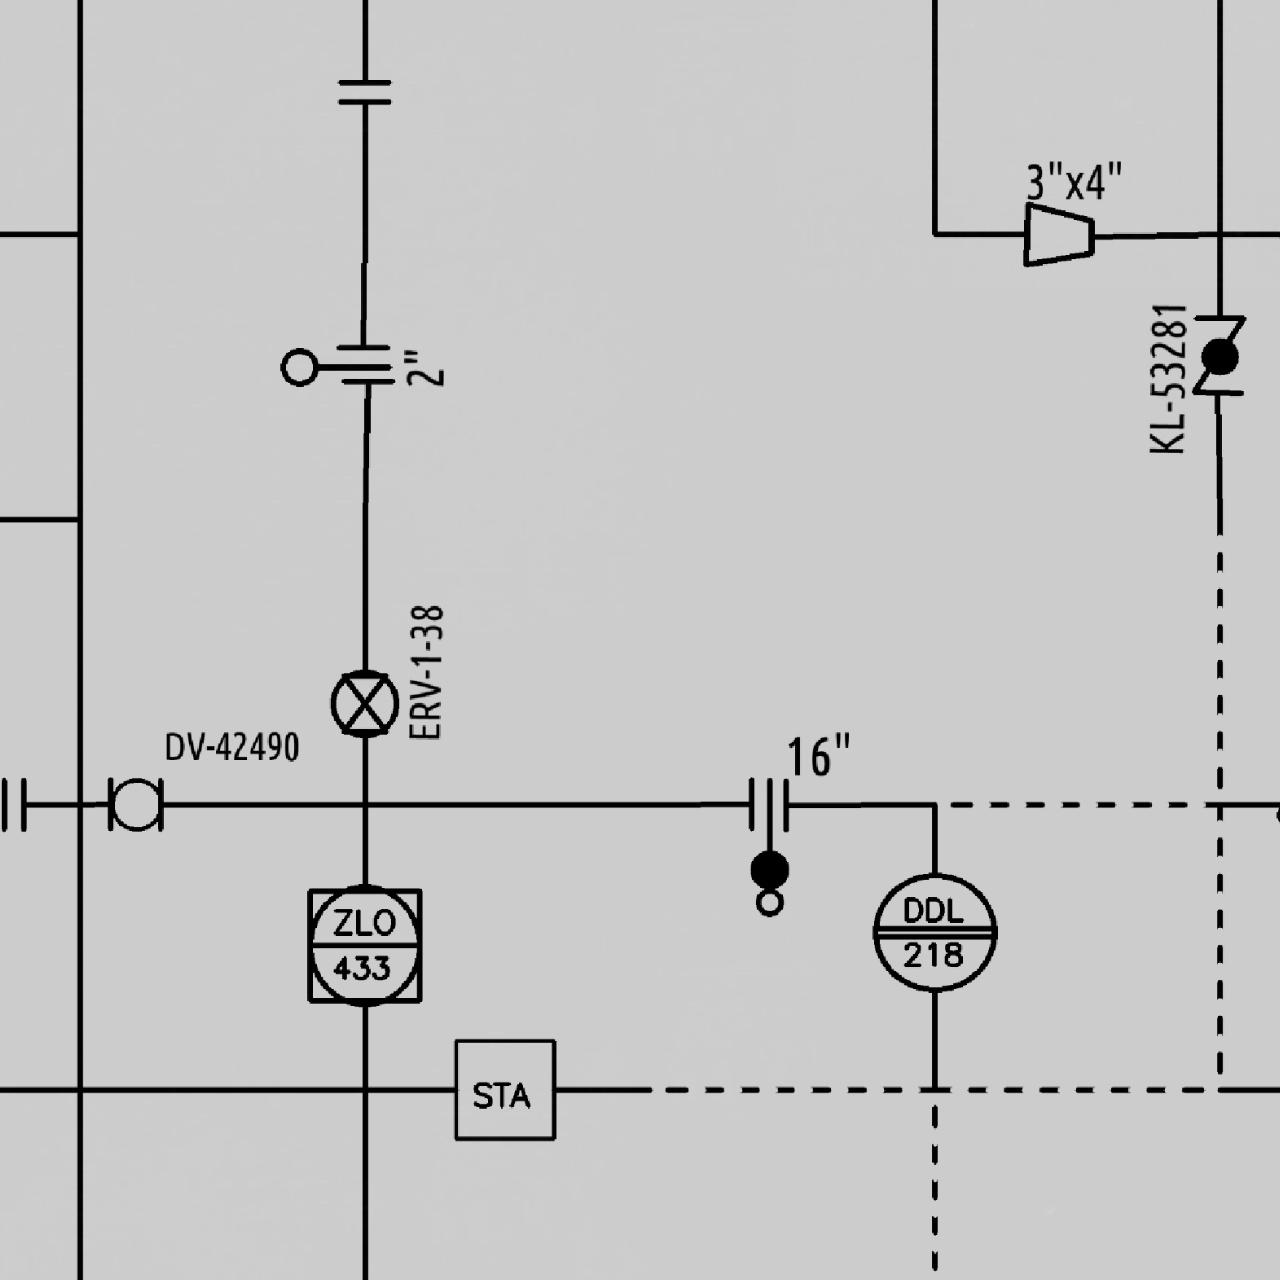Control-Panel: (864, 865, 996, 998)
